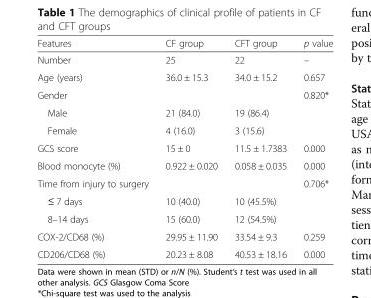table: (36, 37, 332, 259)
table column: (36, 37, 156, 259), (156, 37, 225, 259), (225, 37, 294, 259), (294, 37, 332, 259)
table column header: (36, 37, 332, 50)
table row: (36, 50, 332, 68), (36, 85, 332, 103), (36, 103, 332, 121), (36, 138, 332, 156), (36, 156, 332, 174), (36, 191, 332, 209), (36, 209, 332, 227), (36, 227, 332, 245), (36, 68, 332, 85), (36, 121, 332, 138), (36, 174, 332, 191), (36, 245, 332, 259), (36, 37, 332, 50)
